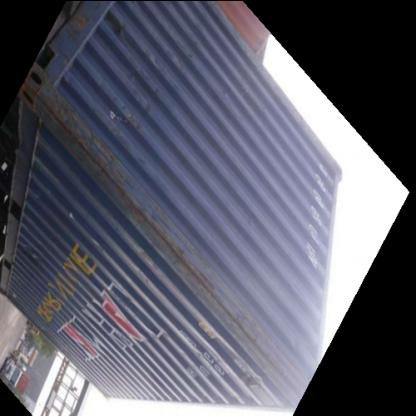Damage: (128, 181, 218, 307), (49, 84, 132, 200), (222, 298, 296, 398)
